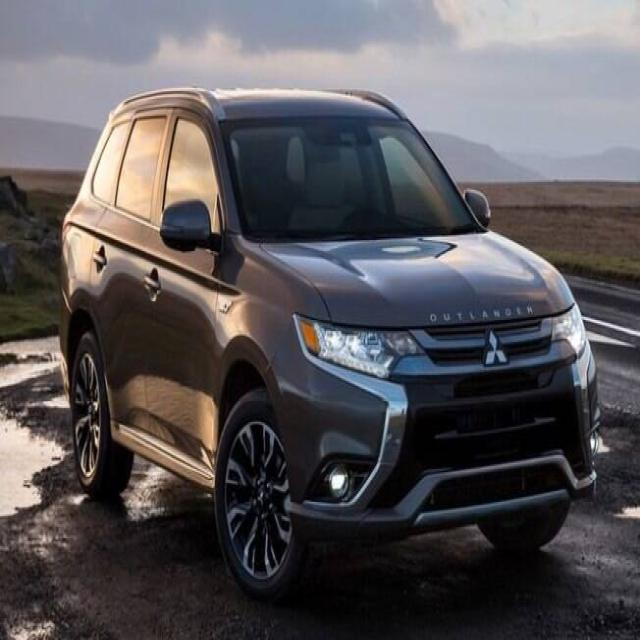light_vehicle: (58, 87, 602, 602)
